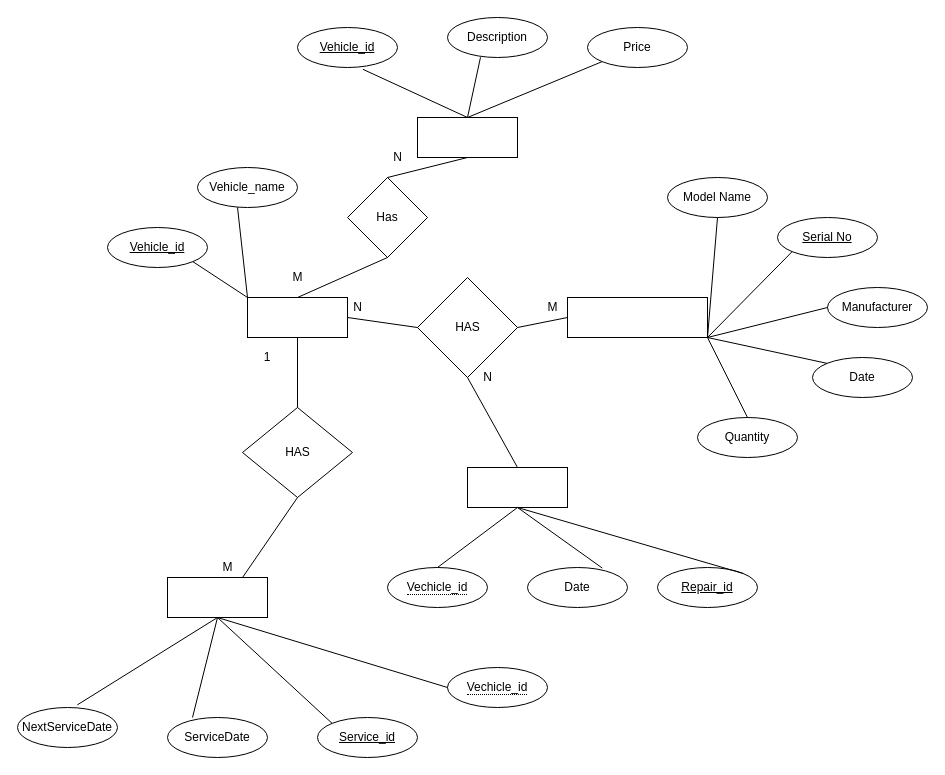
Some shapes in this 945 by 775 pixel diagram are drawn without their labels. The shapes that lost their labels are listed below. From the top down, each one's box as (x1, y1, x2, y2) in pixels, then its label:
(416, 116, 518, 158): Expenses
(246, 296, 348, 338): Vehicle
(566, 296, 708, 338): Vehicale_Spare_Part
(466, 466, 568, 508): Vechicle_Repair
(166, 576, 268, 618): Vechicle_Service
